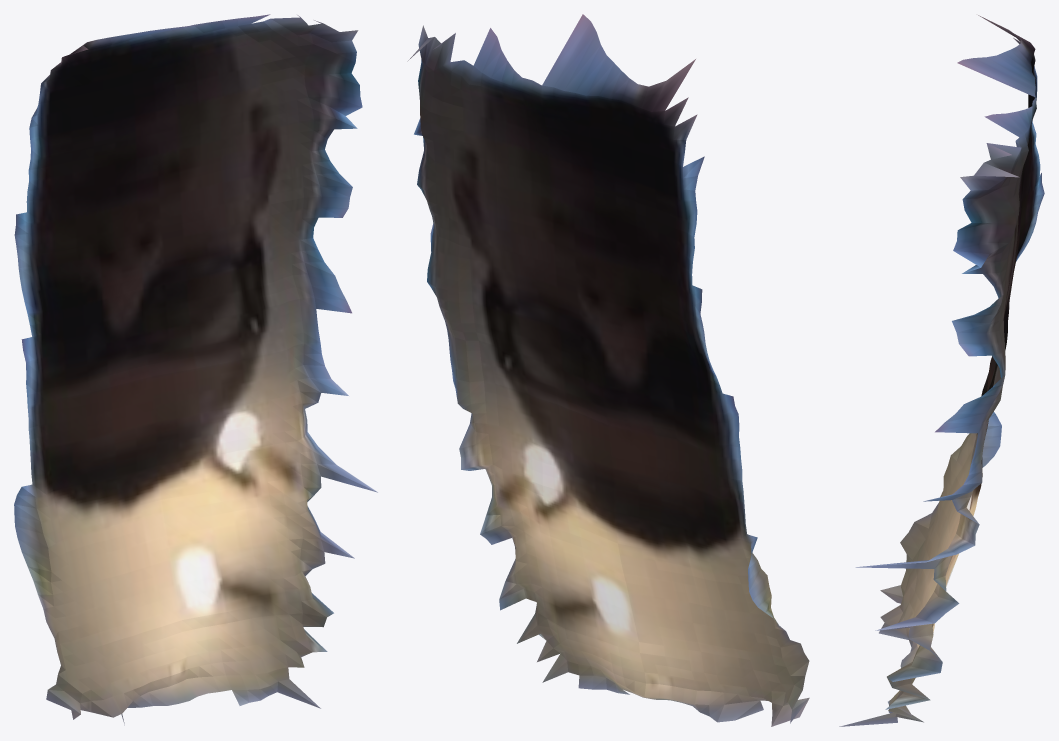
Rendered from observed-surface.glb.
3 views of the same model, side by side, from view 1: azimuth 30°, elevation 25°; view 2: azimuth 150°, elevation 25°; view 3: azimuth 270°, elevation 25° (orthographic). The views are drawn at different scales.
Visible parts, largest first — view 1: geometry_0; view 2: geometry_0; view 3: geometry_0.
Boxes of the visible parts, bbox=[...] form: geometry_0: bbox=[14, 14, 377, 725]; geometry_0: bbox=[407, 14, 809, 726]; geometry_0: bbox=[839, 15, 1044, 726].
Size of the model in its own units: 0.2216 by 0.4229 by 0.123.
Materials: 1 (1 with a texture image).
